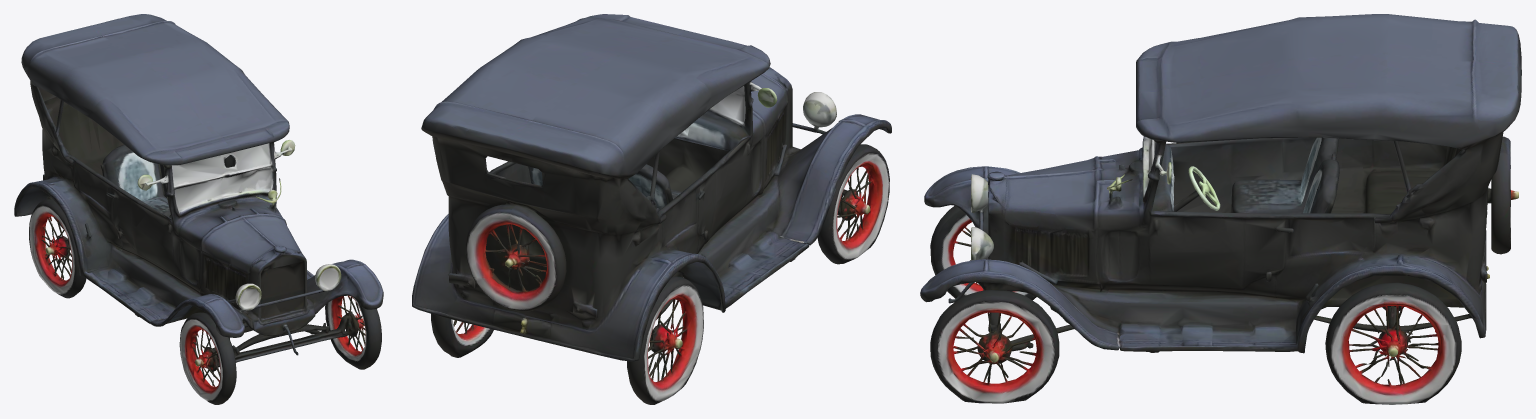
The model's file is web_glb.glb.
3 views of the same model, side by side, from view 1: azimuth 30°, elevation 25°; view 2: azimuth 150°, elevation 25°; view 3: azimuth 270°, elevation 25° (orthographic). The views are drawn at different scales.
Parts seen in each view (by area): view 1: Black Brass Touring Car; view 2: Black Brass Touring Car; view 3: Black Brass Touring Car.
Part boxes in pixels (box(x1,y1,x2,y2)): Black Brass Touring Car: box(14, 14, 383, 404); Black Brass Touring Car: box(412, 14, 891, 404); Black Brass Touring Car: box(920, 14, 1521, 404).
Size of the model in its own units: 0.4565 by 0.5455 by 0.9999.
1 material, 1 textured.
